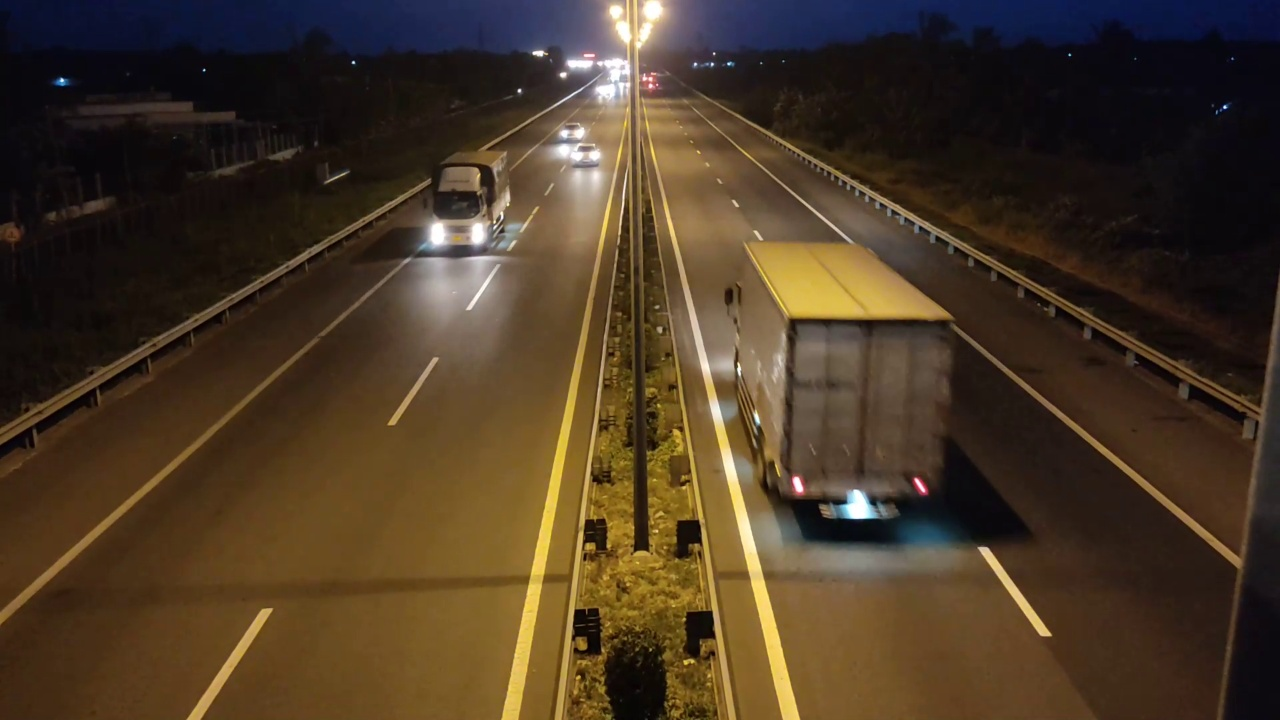car: (569, 143, 601, 169)
truck: (724, 239, 957, 535), (431, 147, 511, 255)
